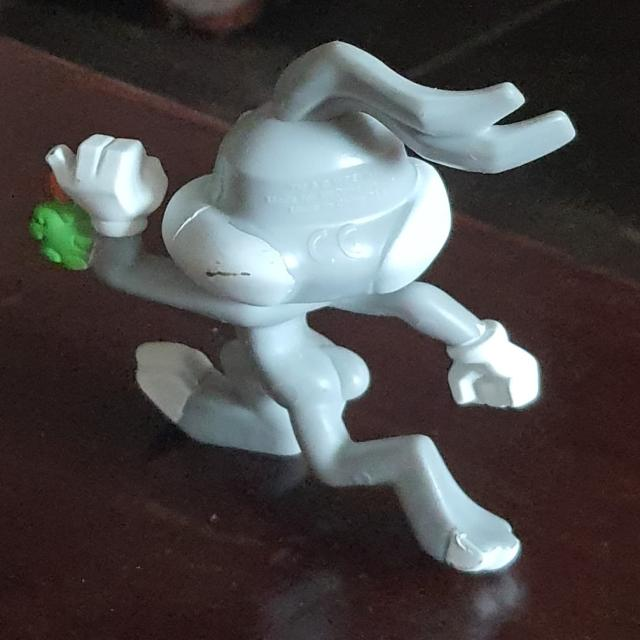Rabbit: (33, 38, 576, 575)
